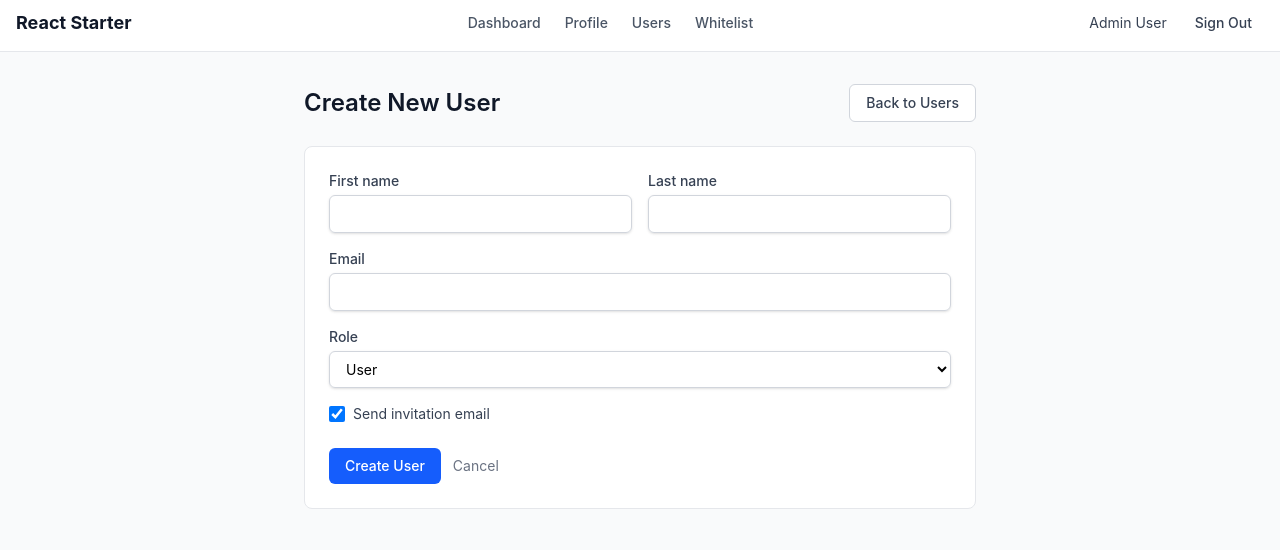
Test: CreateUserPage › maps server field errors to form fields
In the field labelled "First name": (480, 214) 329,195 -> 632,233, type "New"
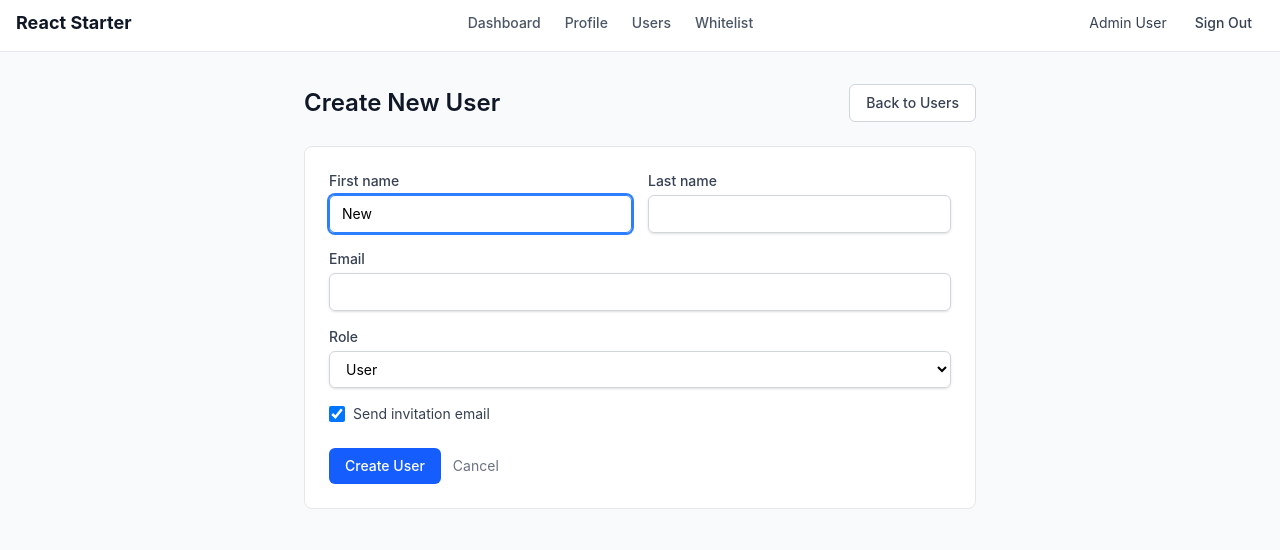
In the field labelled "Last name": (800, 214) 648,195 -> 951,233, type "User"
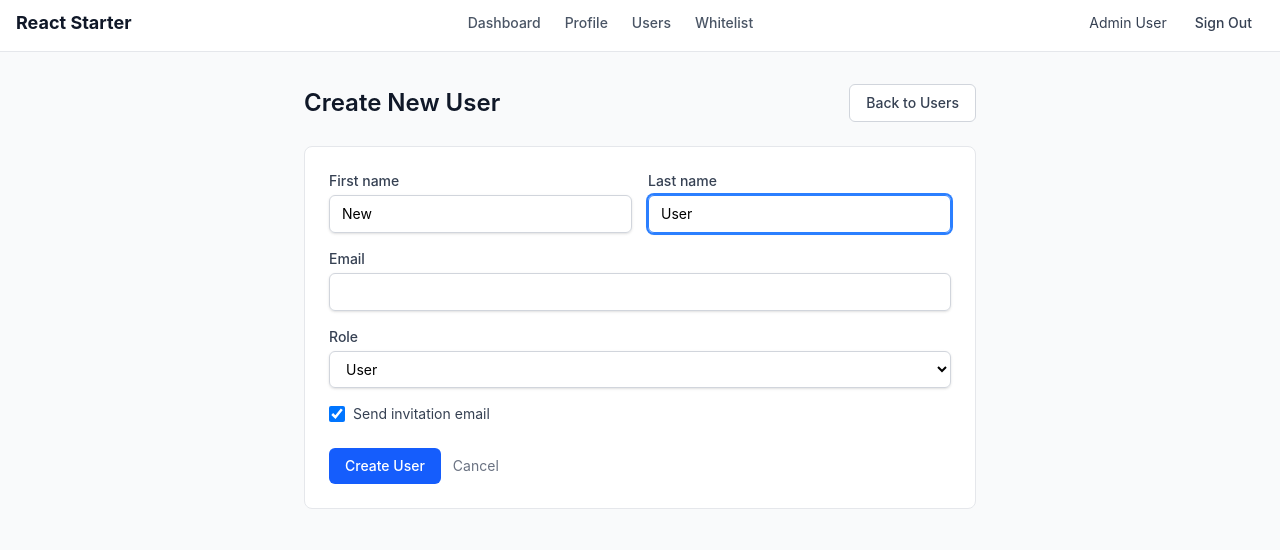
In the field labelled "Email": (640, 292) 329,273 -> 951,311, type "newuser@example.com"
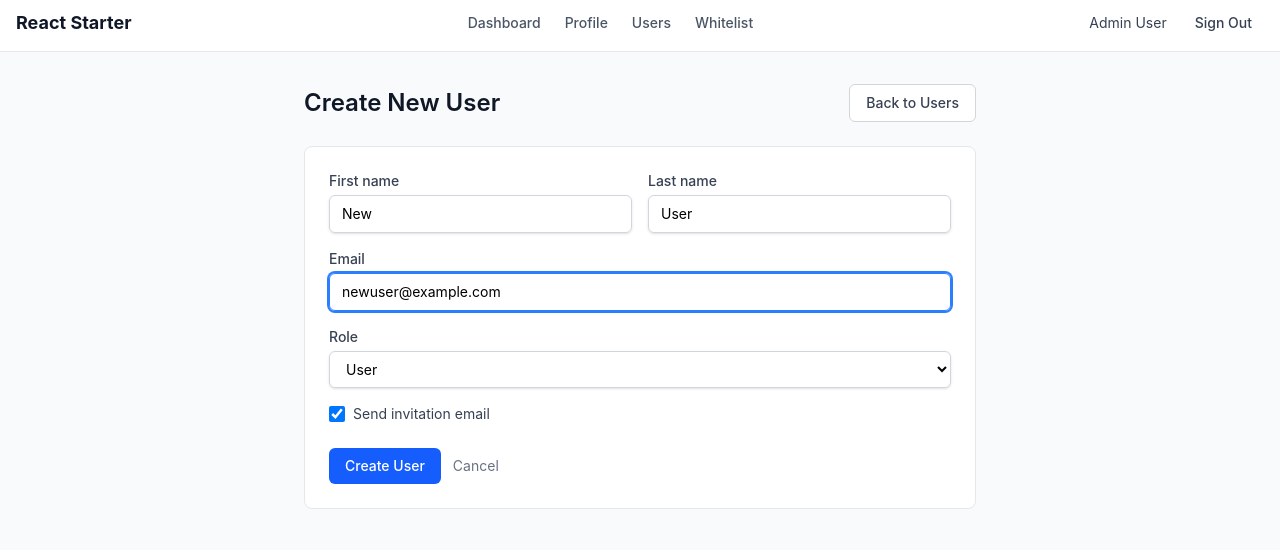
Click the button "Create User": (385, 466) 329,448 -> 441,484
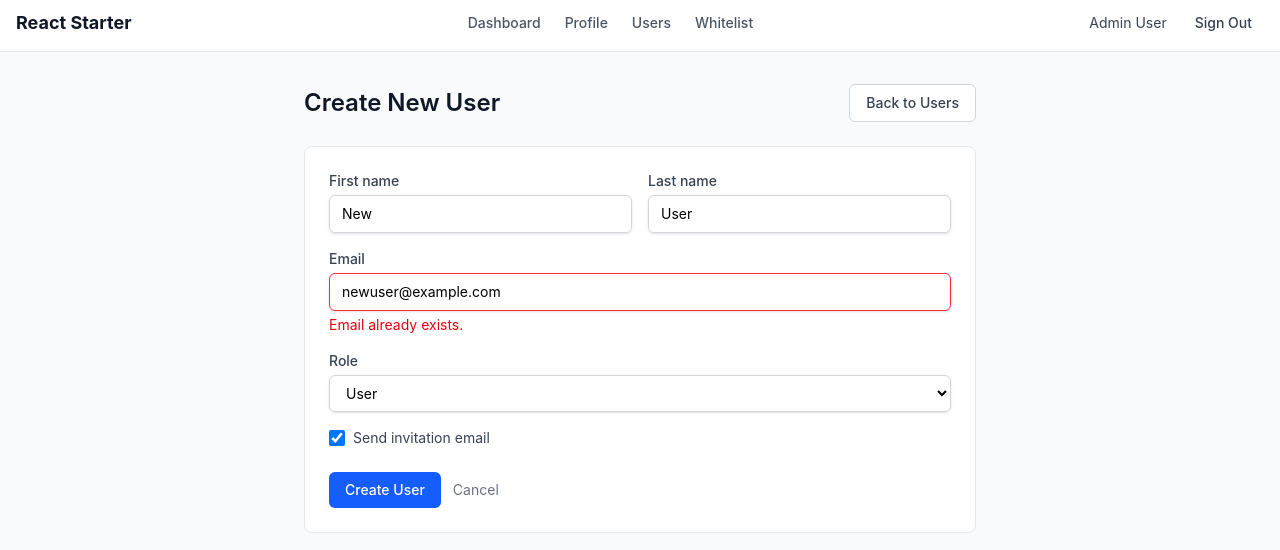
Expected: the text "Email already exists." is shown, 329,316 -> 463,333
